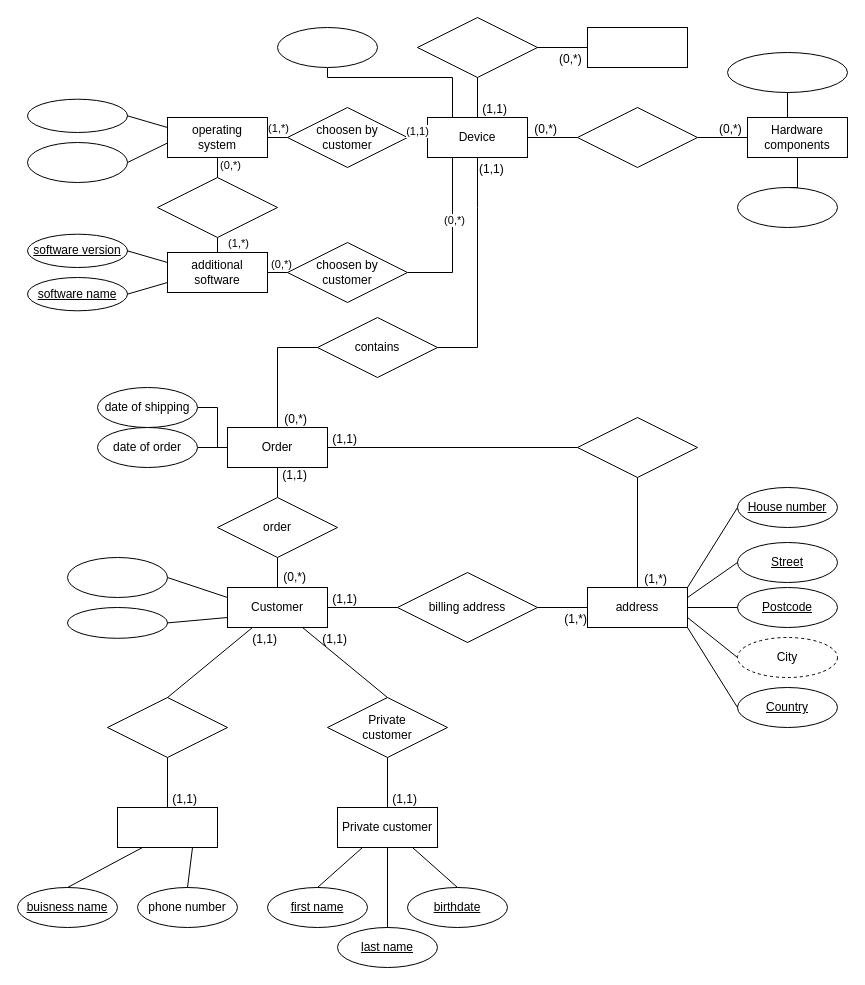
Image size: 865x985. Some labels were removed from this diagram. The shapes that lost their labels are listed below. From the top down, each one's centre as x and y in pixels, then its label:
point (327, 47): serial number
point (477, 47): provides
point (637, 47): Device provider
point (787, 72): component name
point (77, 115): OS name
point (637, 137): composed of
point (77, 162): OS version
point (217, 207): According to OS Version
point (787, 207): description
point (637, 447): shipping adress
point (117, 577): Buisness or Private costumer
point (117, 622): register data
point (167, 727): Buisness customer
point (167, 827): Buisness cutsomer
